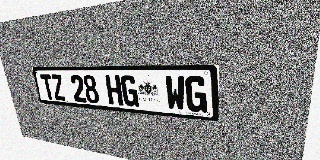2: (70, 75, 87, 103)
8: (82, 75, 100, 104)
G: (185, 76, 207, 113), (120, 75, 139, 107)
H: (105, 75, 123, 106)
T: (40, 74, 55, 100)
W: (165, 76, 186, 111)
Z: (50, 74, 66, 101)
